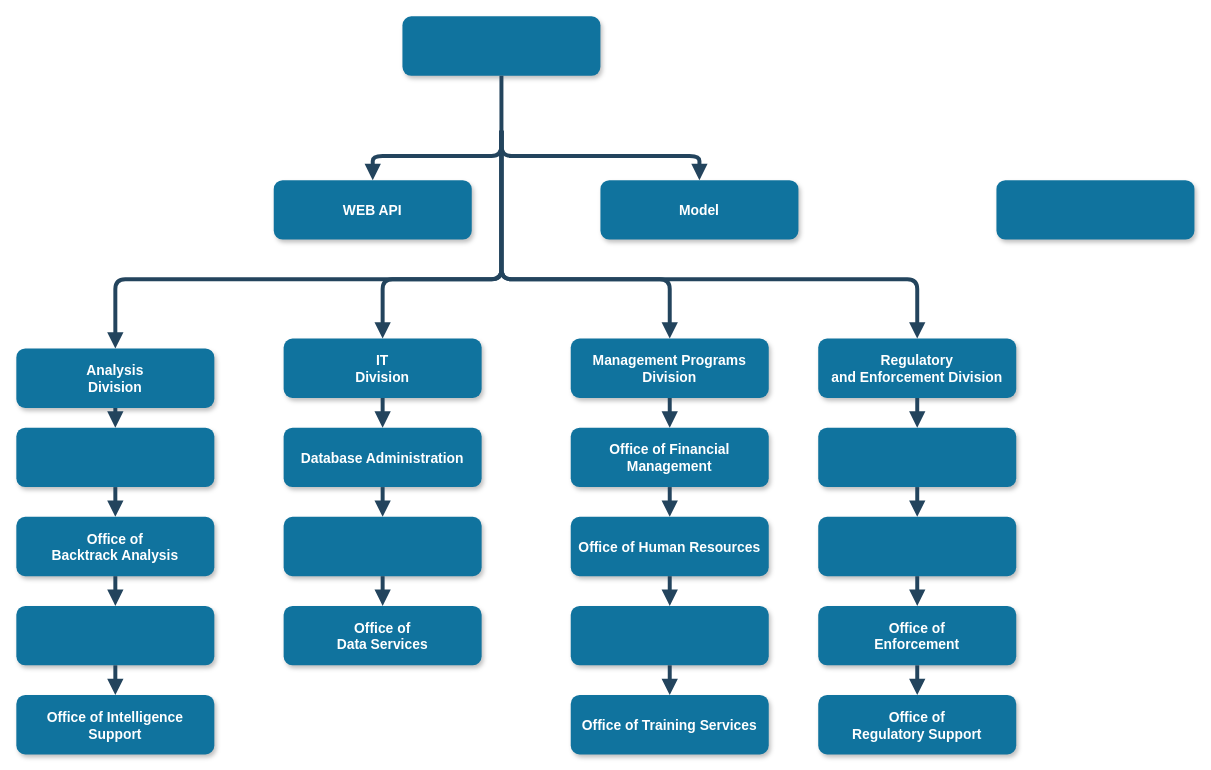
This 1211x770 diagram has some shape labels left out. The shapes that lost their labels are listed below. From the top down, each one's centre as x and y in pixels, then its label:
At [502,47]: "TREK12".
At [1096,211]: "Cooperation".
At [116,458]: "Office of Global Support".
At [918,458]: "Office of Regulatory Policy".
At [383,547]: "Office of Technology Research".
At [918,547]: "Office Compliance".
At [116,636]: "Department of Heuristic Support".
At [670,636]: "Office of Management".
